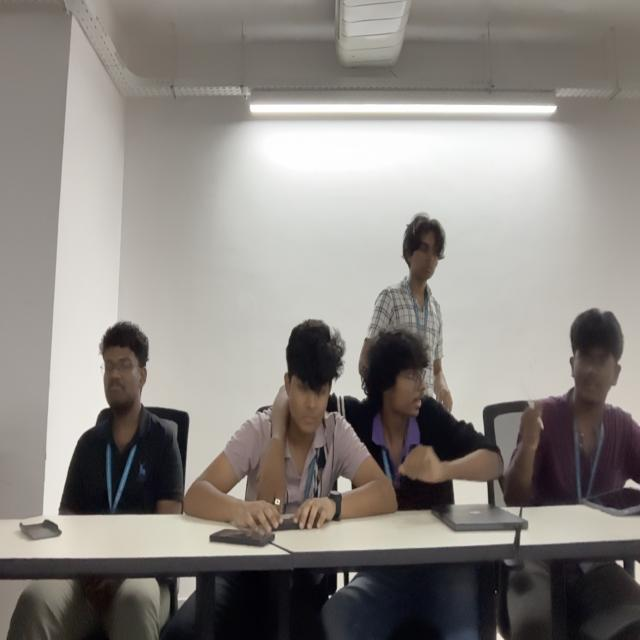Isolated: (508, 307, 640, 508)
socializing: (56, 214, 504, 532)
